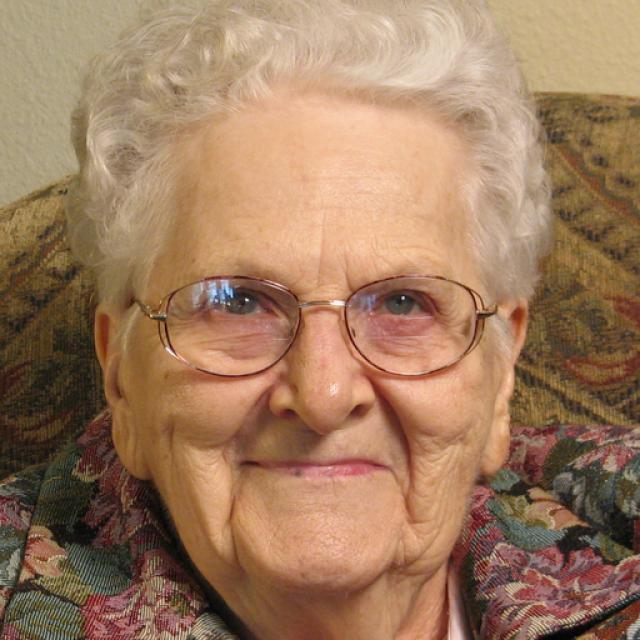happy: (132, 94, 504, 586)
